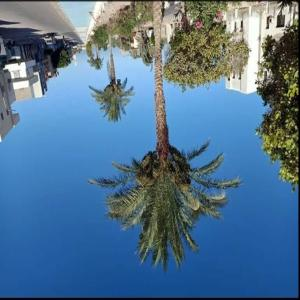palm tree: (86, 1, 250, 272)
